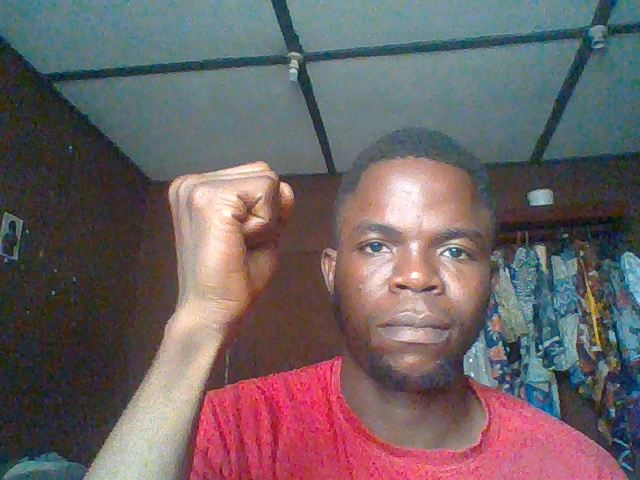Unity: (139, 156, 303, 356)
